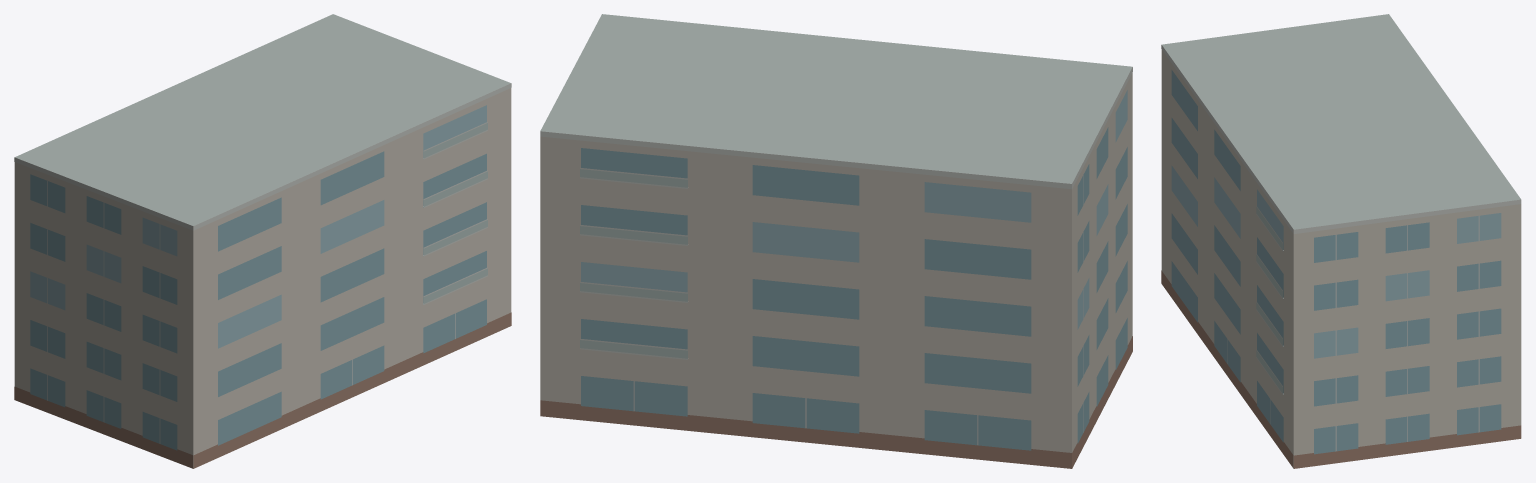
File: survey-upis-32771202.glb
3 renders of one model, left to right at view 1: azimuth 30°, elevation 25°; view 2: azimuth 150°, elevation 25°; view 3: azimuth 270°, elevation 25°, orthographic. The views are drawn at different scales.
Parts seen in each view (by area): view 1: survey-upis-32771202.tmp; view 2: survey-upis-32771202.tmp; view 3: survey-upis-32771202.tmp.
Boxes of the visible parts, x1=… form: survey-upis-32771202.tmp: x1=14, y1=14, x2=511, y2=468; survey-upis-32771202.tmp: x1=540, y1=14, x2=1132, y2=468; survey-upis-32771202.tmp: x1=1161, y1=14, x2=1521, y2=468.
Bounding box in the file's own units: 25.45 × 13.15 × 17.94.
